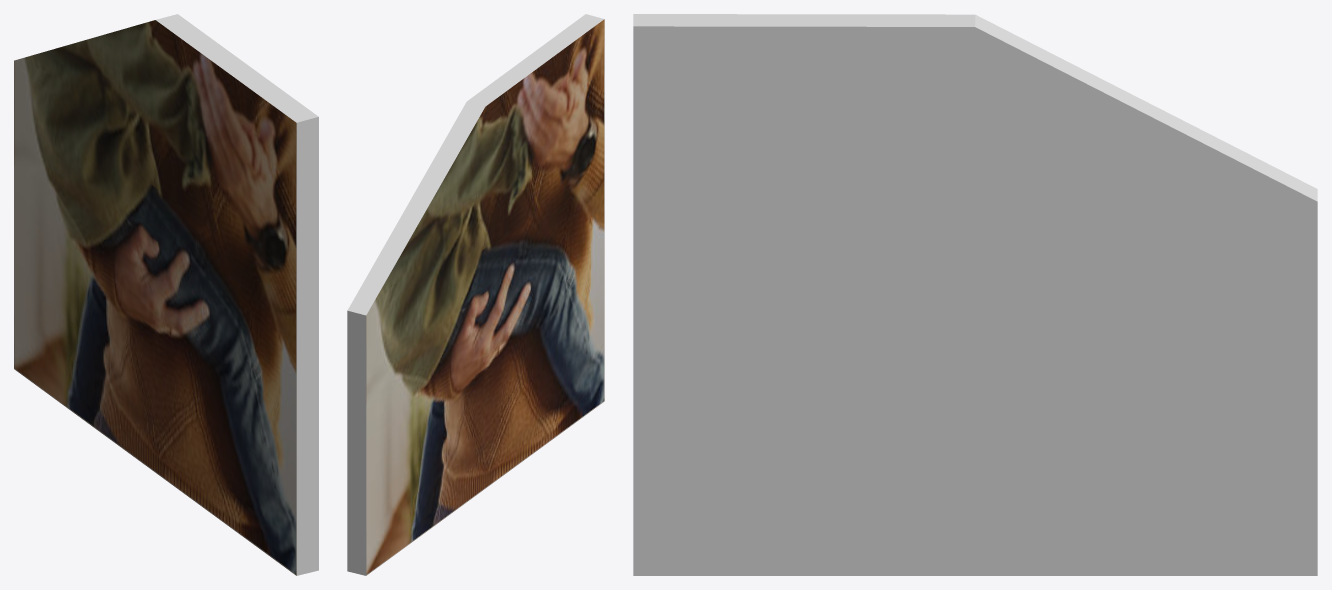
Rendered from FotoGrafia3.fbx.
3 views of the same model, side by side, from view 1: azimuth 30°, elevation 25°; view 2: azimuth 150°, elevation 25°; view 3: azimuth 270°, elevation 25° (orthographic). The views are drawn at different scales.
Visible parts, largest first — view 1: FotoDelPare_cell.003; view 2: FotoDelPare_cell.003; view 3: FotoDelPare_cell.003.
Boxes of the visible parts, bbox=[...] form: FotoDelPare_cell.003: bbox=[14, 14, 318, 575]; FotoDelPare_cell.003: bbox=[347, 14, 604, 575]; FotoDelPare_cell.003: bbox=[633, 14, 1317, 575].
Size of the model in its own units: 2.57 by 49.95 by 56.37.
Materials: 2 (1 with a texture image).
